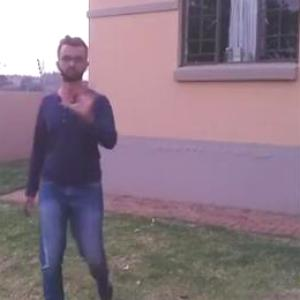follow_hand: (64, 72, 102, 116)
